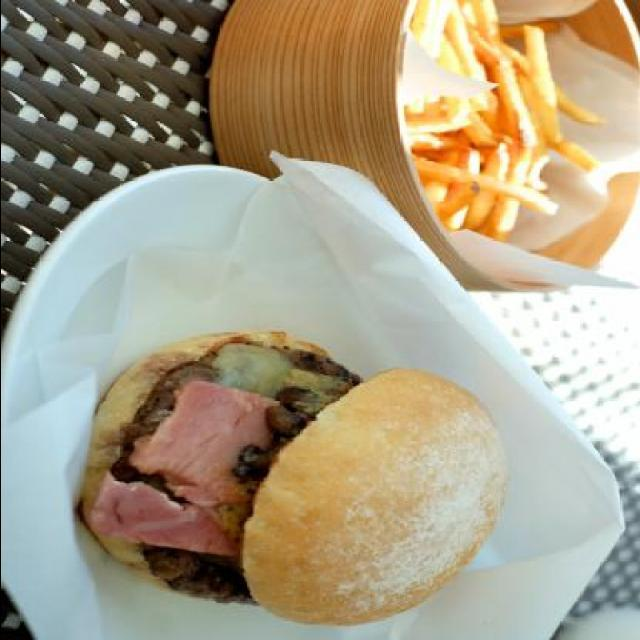Hamburger: (75, 328, 508, 624)
